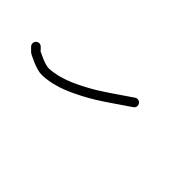b: (24, 29, 77, 110)
